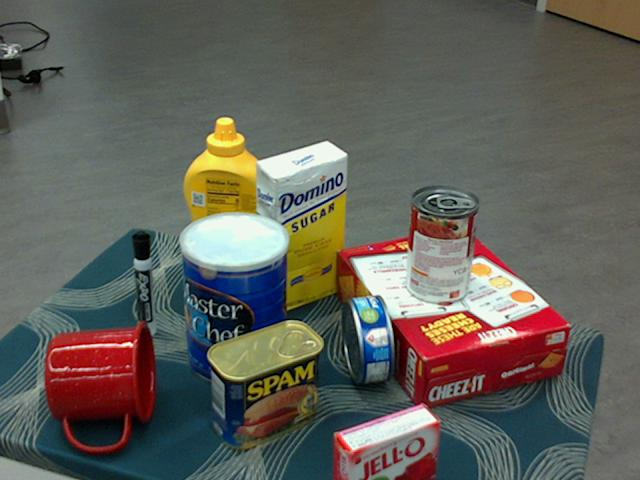cracker_box: (334, 229, 568, 406)
gelatin_box: (330, 404, 437, 479)
large_marker: (131, 229, 153, 336)
master_chef_can: (181, 212, 290, 387)
mug: (45, 320, 156, 451)
mustard_bottle: (183, 118, 271, 286)
potted_meat_can: (207, 320, 323, 448)
sugar_box: (256, 142, 348, 315)
tomato_soup_can: (404, 187, 478, 305)
tuna_fish_can: (342, 293, 395, 383)
